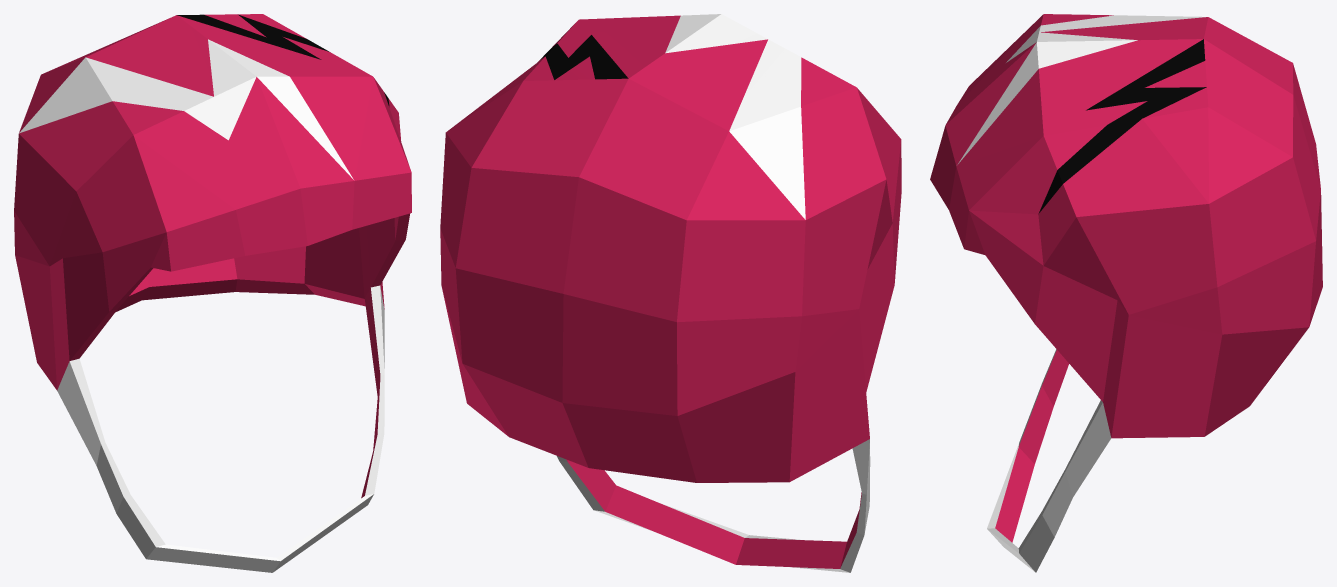
File: Ski_Jumper_1_Helmet.fbx
The picture shows the model from 3 angles, left to right: view 1: azimuth 30°, elevation 25°; view 2: azimuth 150°, elevation 25°; view 3: azimuth 270°, elevation 25°; orthographic projection. The views are drawn at different scales.
Parts seen in each view (by area): view 1: Ski_Jumper_1_Helmet; view 2: Ski_Jumper_1_Helmet; view 3: Ski_Jumper_1_Helmet.
Boxes of the visible parts, x1,y1,x2,y2 form: Ski_Jumper_1_Helmet: [14, 14, 411, 572]; Ski_Jumper_1_Helmet: [440, 14, 901, 572]; Ski_Jumper_1_Helmet: [930, 14, 1322, 572].
Bounding box in the file's own units: 22.4 × 31.86 × 22.33.
